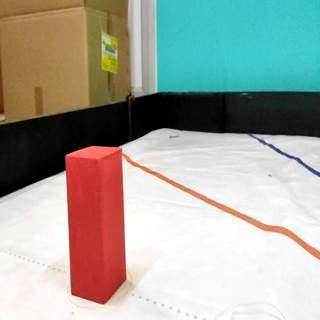redbox: (66, 145, 128, 305)
